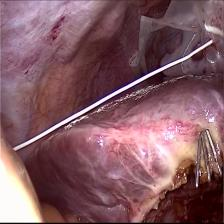Specimen Bag: (127, 0, 223, 79)
